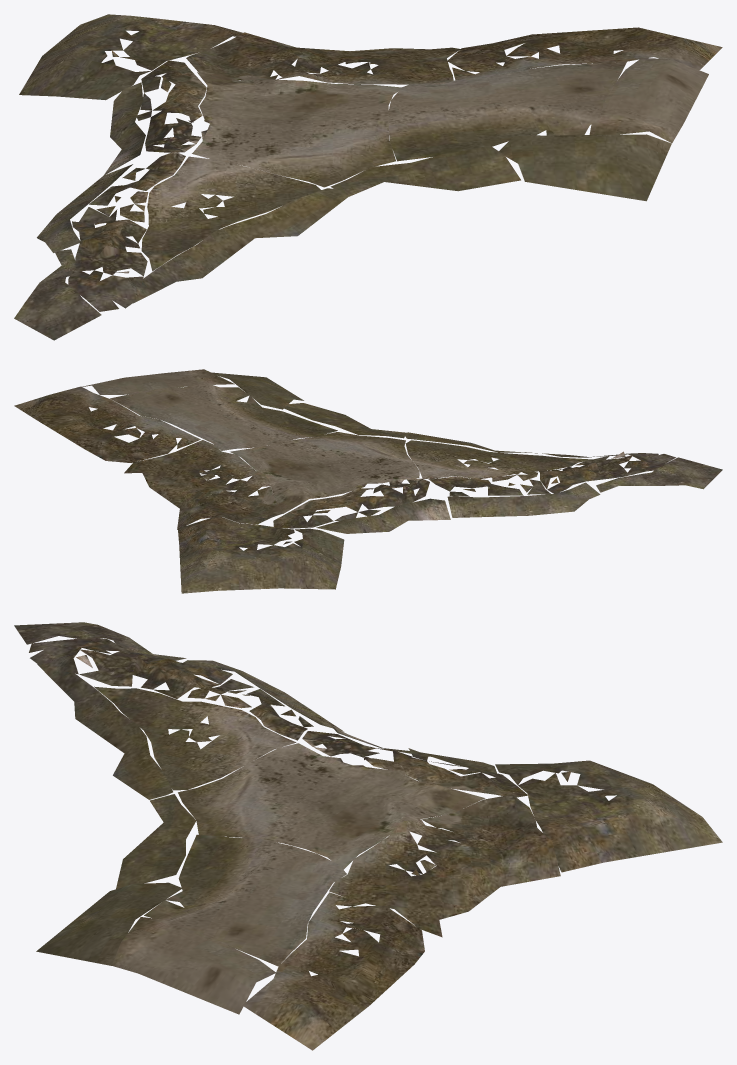
Rendered from SM_Stones.glb.
The picture shows the model from 3 angles, top to bottom: view 1: azimuth 30°, elevation 25°; view 2: azimuth 150°, elevation 25°; view 3: azimuth 270°, elevation 25°; orthographic projection. The views are drawn at different scales.
Parts seen in each view (by area): view 1: SM_Stones; view 2: SM_Stones; view 3: SM_Stones.
Part boxes in pixels (x1,y1,x2,y2): SM_Stones: (14,14,722,340); SM_Stones: (14,369,722,593); SM_Stones: (14,622,722,1050).
Size of the model in its own units: 2.11 by 0.1039 by 1.5.
Materials: 1 (1 with a texture image).
